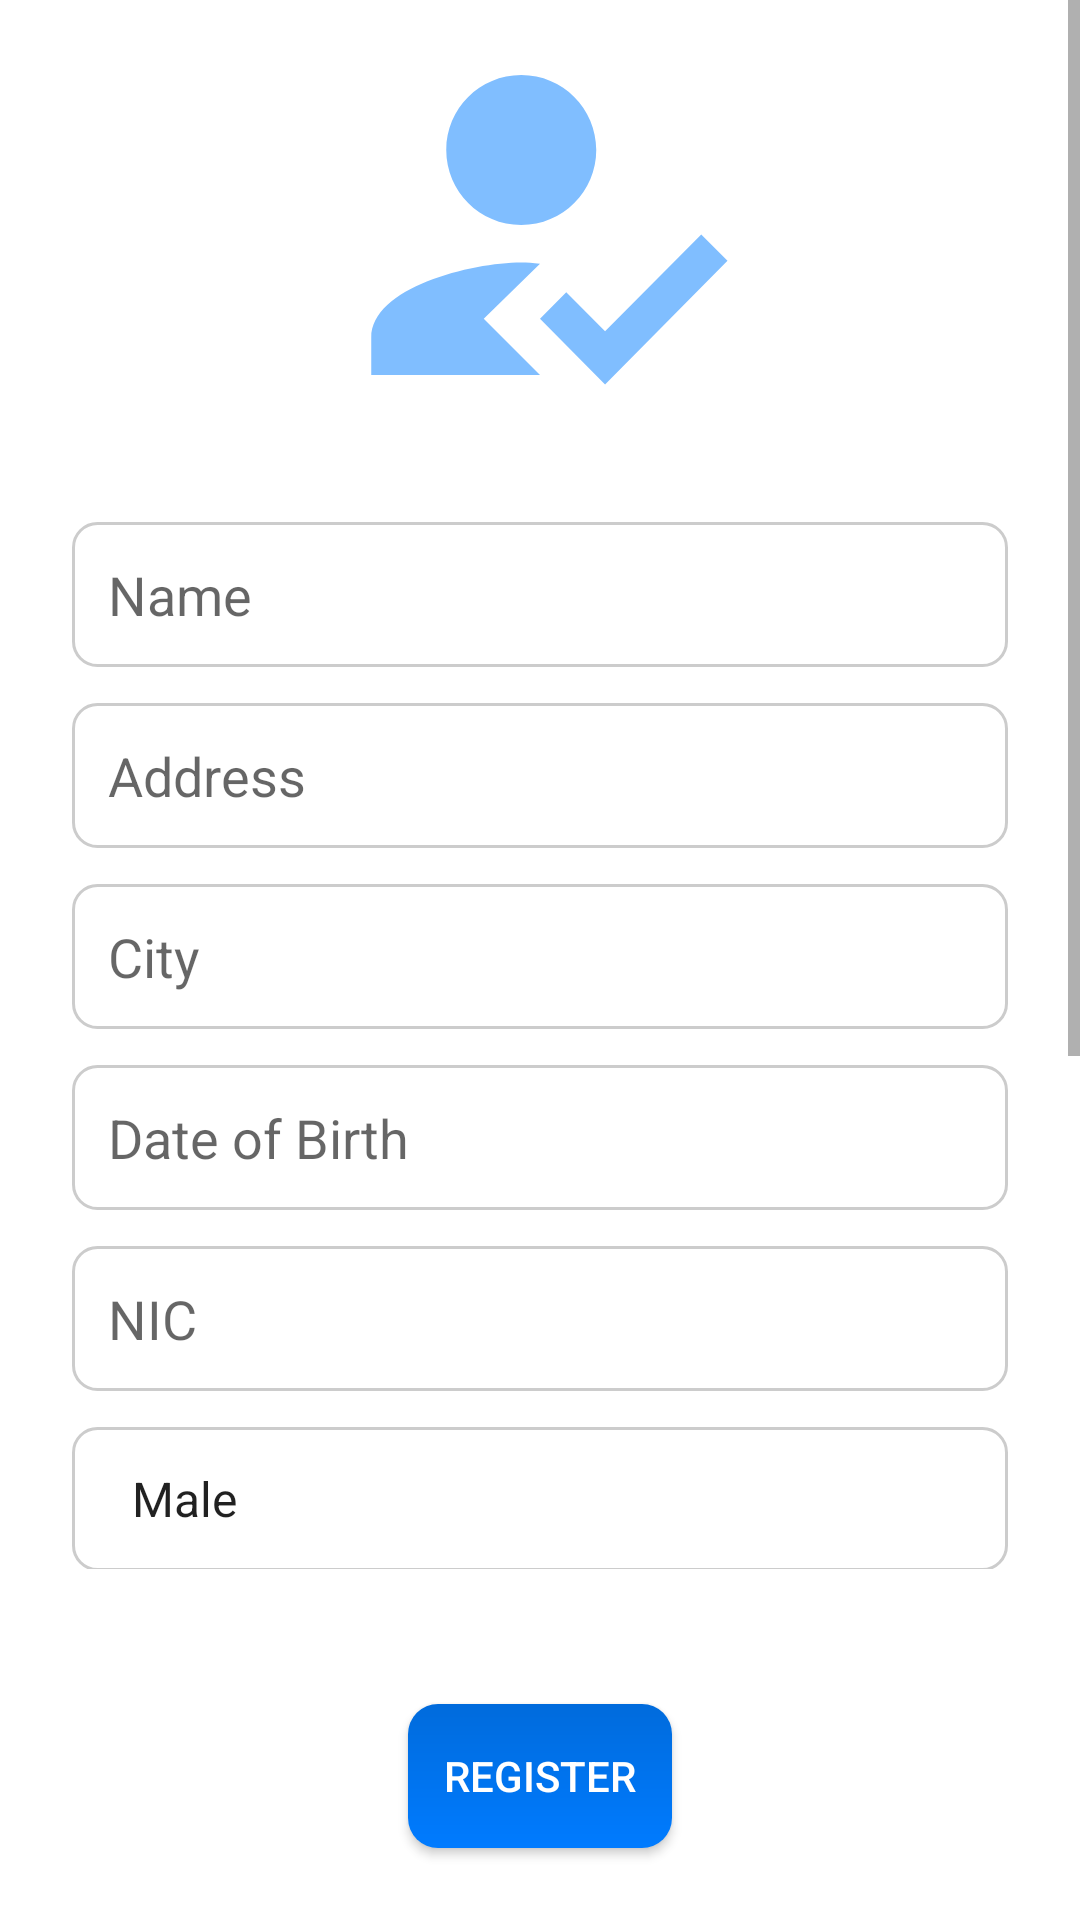

Named icons in this screenshot (1080x1920) and their centers, (x=x, y=y):
how to reg: (x=549, y=229)
